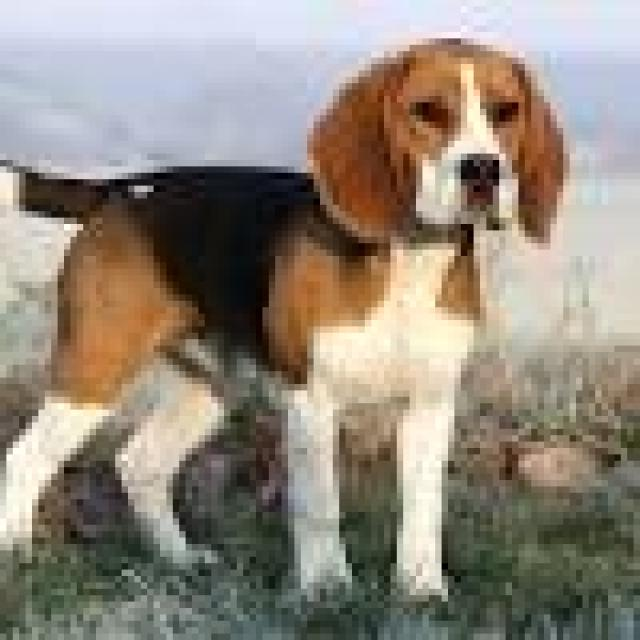Dog: (0, 32, 570, 602)
